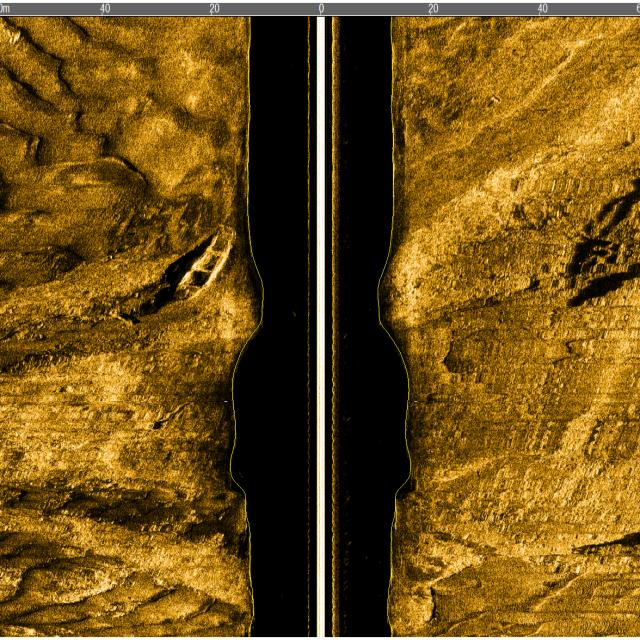ship: (176, 222, 237, 303)
